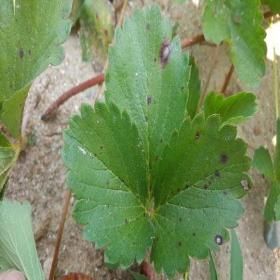Leaf Spot: (150, 111, 254, 278), (104, 2, 192, 190), (60, 98, 155, 272)
